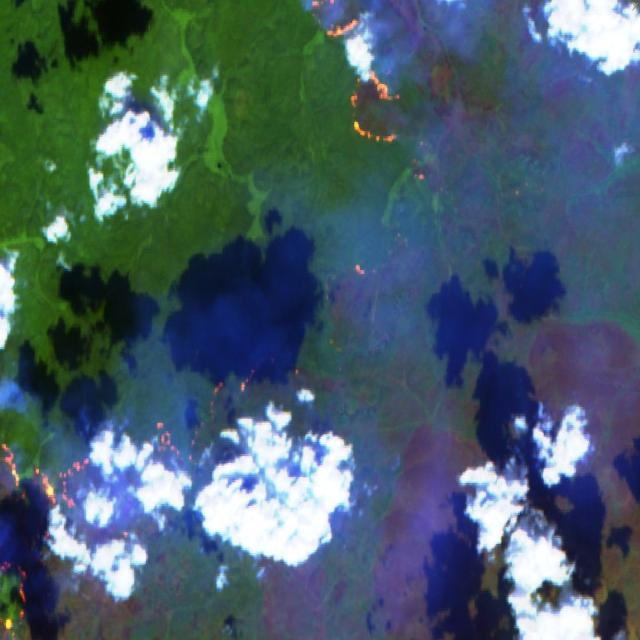fire: (0, 369, 262, 640), (301, 0, 403, 159)
